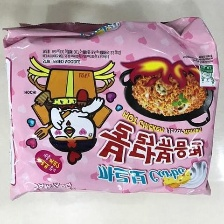snack: (0, 12, 224, 208)
